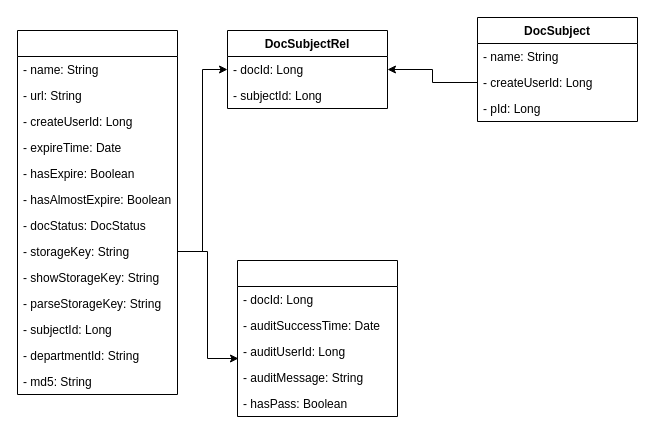
The diagram is 655 pixels wide and 437 high, and some of its shapes have lost their labels. The shapes that lost their labels are listed below. From the top down, each one's box as (x1, y1, x2, y2) in pixels, then its label:
(16, 30, 178, 394): KnDocument
(236, 260, 398, 416): DocumentAudit
